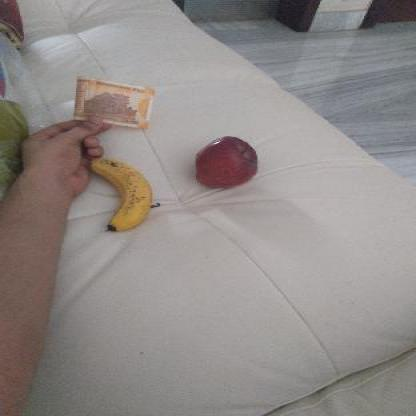New200Back: (70, 75, 158, 125)
